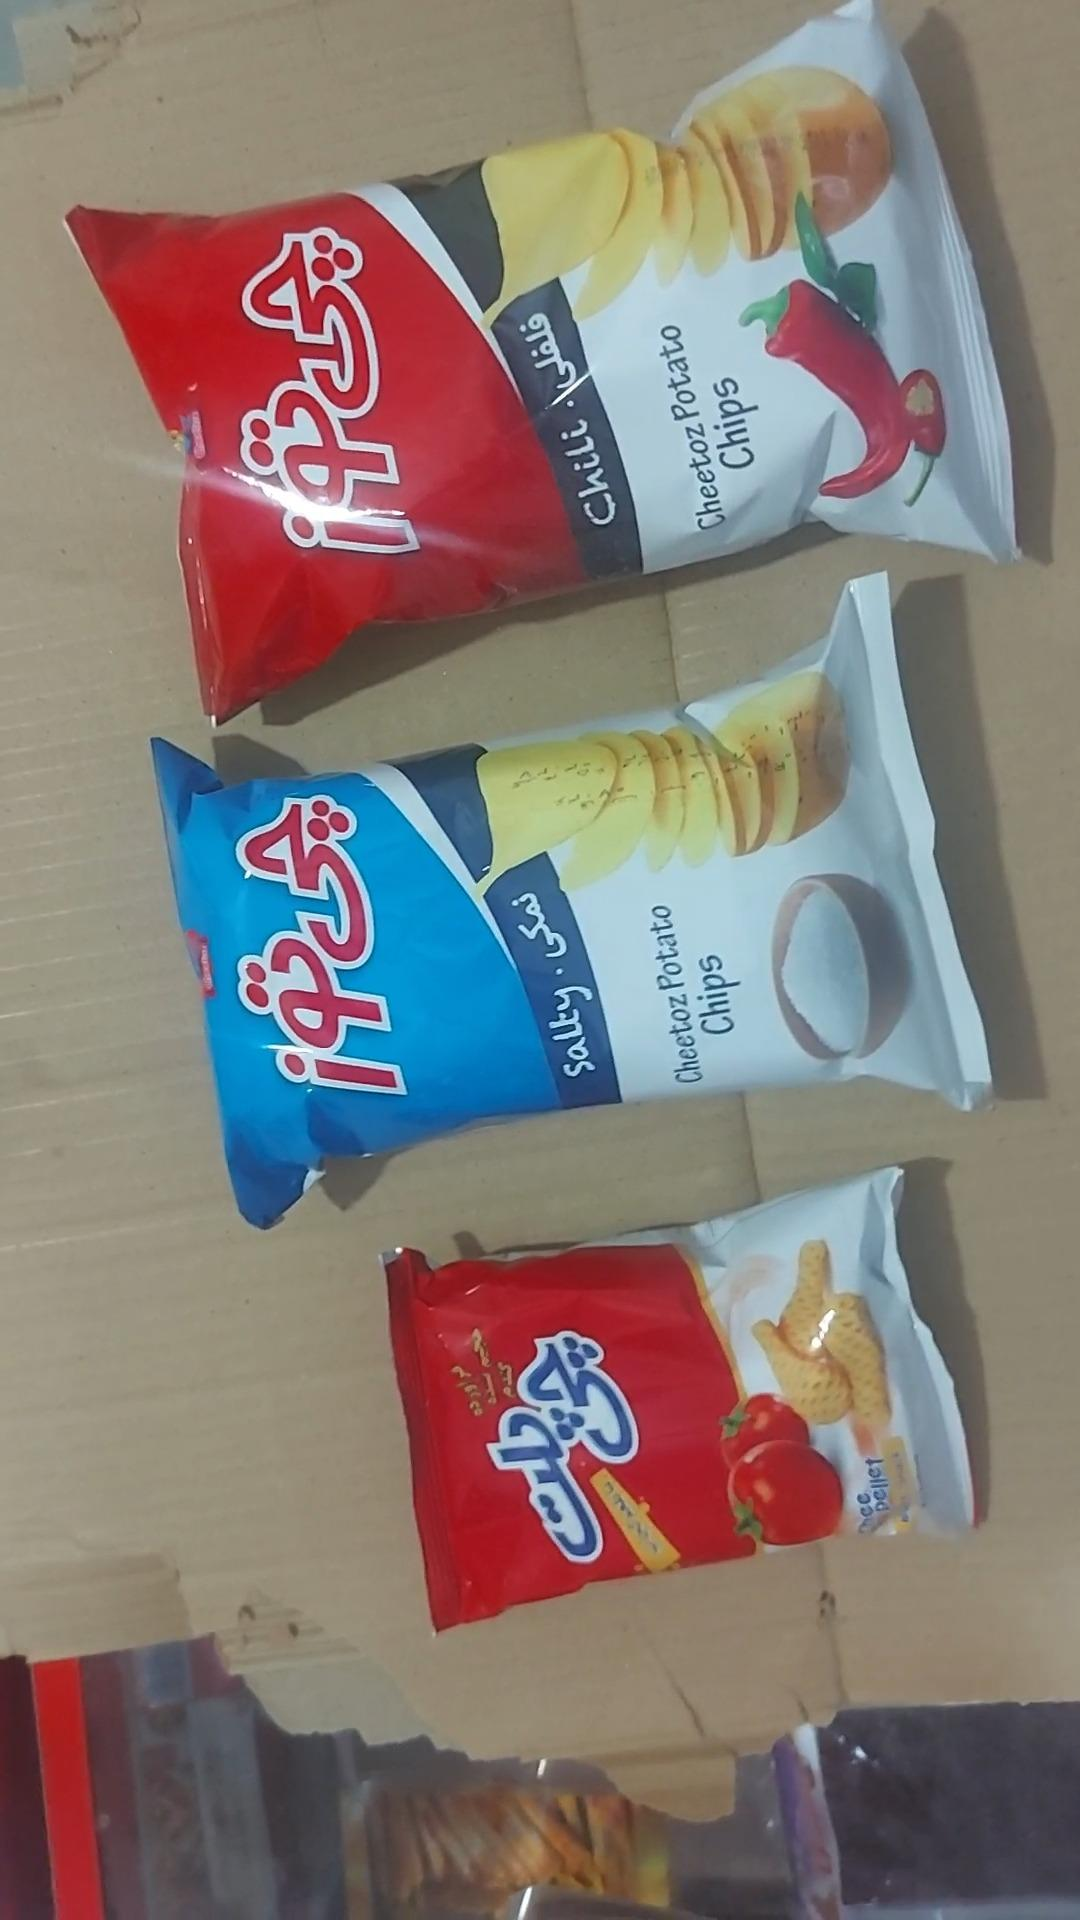Chee pellet ketchup: (380, 1166, 977, 1636)
Cheetoz chili chips: (65, 0, 1019, 725)
Cheetoz salty chips: (152, 570, 996, 1234)
